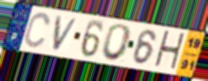6: (132, 28, 159, 66), (80, 19, 105, 59)
C: (23, 11, 52, 49)
H: (152, 29, 187, 74)
O: (100, 23, 134, 63)
V: (51, 15, 80, 53)
